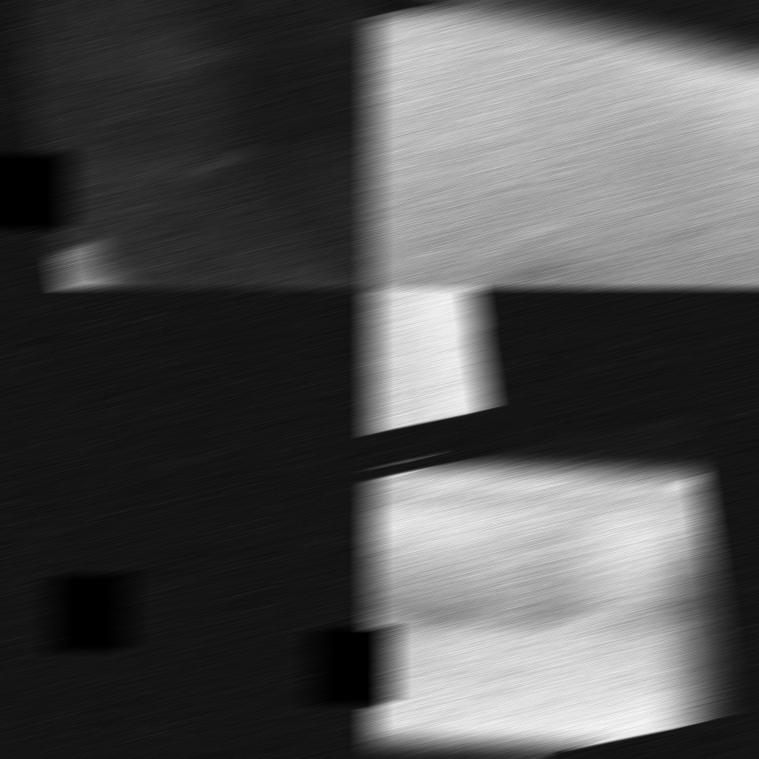Airbag: (366, 5, 759, 287), (0, 1, 376, 287), (366, 473, 711, 745)
